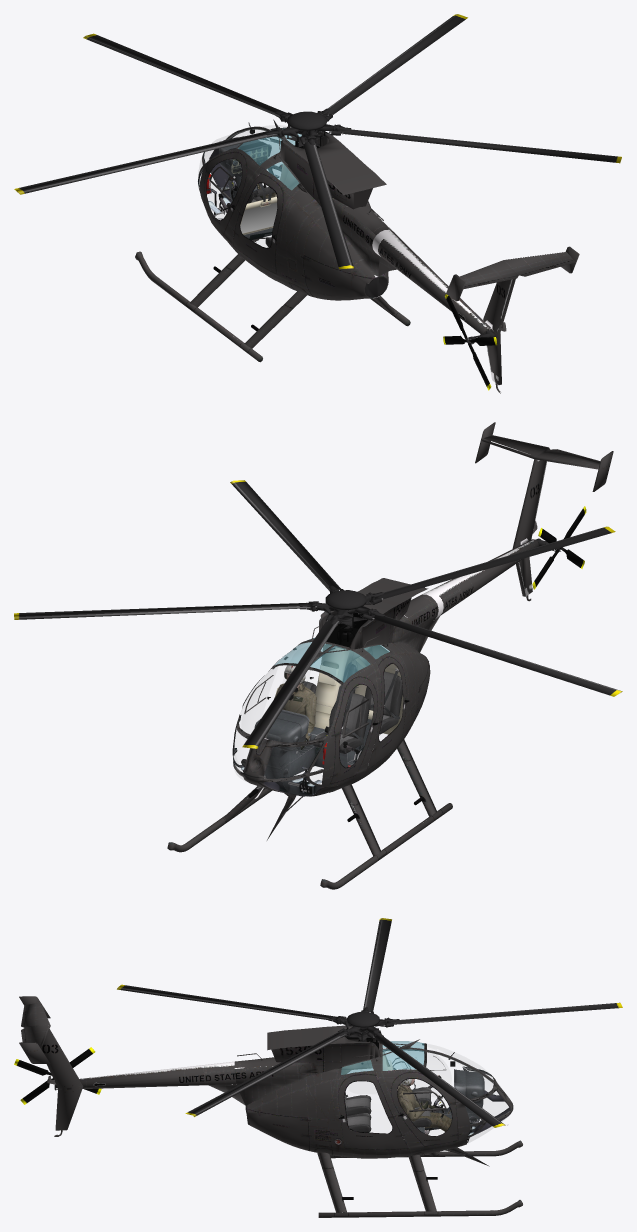
3 views of the same model, one above another, from view 1: azimuth 30°, elevation 25°; view 2: azimuth 150°, elevation 25°; view 3: azimuth 270°, elevation 25° (orthographic). The views are drawn at different scales.
Parts seen in each view (by area): view 1: ext_fuselage1, rotor_main, ext_tail, ext_fuselage2, glasss_grn, int_seats2, int_console, rotor_tail, int_seats1; view 2: rotor_main, ext_fuselage1, ext_fuselage2, ext_tail, int_seats1, int_console, int_fuselage3, glasss_grn, int_pilotR, glass, rotor_tail, int_seats2; view 3: ext_fuselage1, rotor_main, ext_fuselage2, ext_tail, int_seats1, glass, glasss_grn, int_pilotR, int_console, rotor_tail.
Boxes of the visible parts, x1,y1,x2,y2 form: ext_fuselage1: (198, 119, 391, 298); rotor_main: (14, 14, 621, 269); ext_tail: (344, 204, 579, 393); ext_fuselage2: (135, 127, 410, 362); glasss_grn: (238, 128, 301, 190); int_seats2: (233, 196, 333, 240); int_console: (206, 139, 271, 201); rotor_tail: (443, 294, 497, 390); int_seats1: (208, 122, 345, 247); rotor_main: (14, 480, 622, 748); ext_fuselage1: (242, 587, 438, 840); ext_fuselage2: (167, 578, 452, 889); ext_tail: (404, 422, 613, 652); int_seats1: (241, 644, 409, 794); int_console: (254, 709, 326, 791); int_fuselage3: (314, 644, 370, 729); glasss_grn: (274, 638, 389, 682); int_pilotR: (241, 663, 316, 766); glass: (234, 667, 310, 781); rotor_tail: (532, 506, 586, 589); int_seats2: (275, 687, 373, 767); ext_fuselage1: (235, 1030, 508, 1166); rotor_main: (117, 918, 622, 1127); ext_fuselage2: (246, 1025, 522, 1217); ext_tail: (19, 996, 280, 1136); int_seats1: (338, 1052, 481, 1142); glass: (348, 1044, 508, 1143); glasss_grn: (341, 1041, 424, 1074); int_pilotR: (397, 1068, 472, 1135); int_console: (425, 1069, 484, 1132); rotor_tail: (14, 1047, 101, 1104).
Bounding box in the file's own units: 7.48 × 2.89 × 9.2.
Materials: 12 (11 with a texture image).
